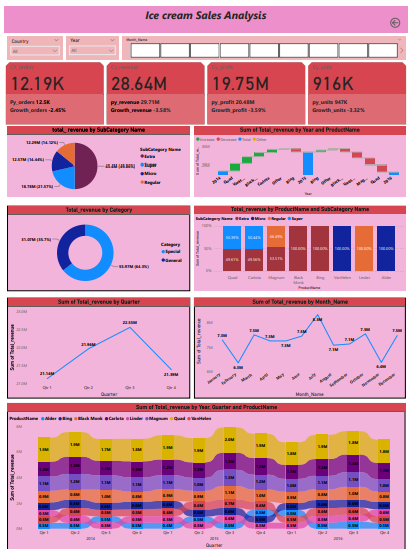

The page's visual inventory and layout, read from the dashboard file:
{"tool":"powerbi","page":{"name":"Page 2","canvas":[1400,1400],"ordinal":1},"visuals":[{"type":"textbox","box":[10,30,1270,40],"z":0},{"type":"slicer","fields":{"Values":["Geography.Country"]},"box":[16.7,91.7,158.3,70],"z":1000},{"type":"slicer","fields":{"Values":["Date_Master.Date.Variation.Date Hierarchy.Year"]},"box":[186.2,91.2,157.5,70],"z":2000},{"type":"slicer","fields":{"Values":["Date_Master.Month_Name"]},"box":[366.7,91.7,836.7,70],"z":3000},{"type":"cardVisual","fields":{"Data":["Calculations.CY_orders","Calculations.Cy_revenue","Calculations.Cy_profit","Calculations.Cy_units"]},"box":[0,183.3,1223.3,161.7],"z":8000},{"type":"pieChart","title":"total_ revenue by SubCategory Name","fields":{"Y":["Sum(Final_sales.Total_revenue)"],"Category":["Sub categories.SubCategory Name"]},"box":[10,360,546.7,210],"z":9000},{"type":"donutChart","title":"Total_revenue by Category","fields":{"Y":["Sum(Final_sales.Total_revenue)"],"Category":["dCategory.Category"]},"box":[10,596.7,546.7,255],"z":10000},{"type":"waterfallChart","fields":{"Y":["Sum(Final_sales.Total_revenue)"],"Category":["Date_Master.Date.Variation.Date Hierarchy.Year"],"Breakdown":["Product.ProductName"]},"box":[570,360,633.3,210],"z":11000},{"type":"hundredPercentStackedColumnChart","title":" Total_revenue by ProductName and SubCategory Name","fields":{"Category":["Product.ProductName"],"Y":["Sum(Final_sales.Total_revenue)"],"Series":["Sub categories.SubCategory Name"]},"box":[570,596.7,633.3,255],"z":12000},{"type":"lineChart","fields":{"Category":["Date_Master.Date.Variation.Date Hierarchy.Quarter"],"Y":["Sum(Final_sales.Total_revenue)"]},"box":[10,873.3,546.7,301.7],"z":13000},{"type":"lineChart","fields":{"Category":["Date_Master.Month_Name","Date_Master.Date.Variation.Date Hierarchy.Quarter"],"Y":["Sum(Final_sales.Total_revenue)"]},"box":[570,873.3,633.3,301.7],"z":14000}]}

Visuals, with their boxes on the page's 1400x1400 design canvas (x1, y1, x2, y2). These are canvas units, not pixel positions in the 415x549 screenshot, which may show the page scaled, cropped or inside an application window:
textbox: select_region(10, 30, 1280, 70)
slicer - Geography.Country: select_region(17, 92, 175, 162)
slicer - Date_Master.Date.Variation.Date Hierarchy.Year: select_region(186, 91, 344, 161)
slicer - Date_Master.Month_Name: select_region(367, 92, 1203, 162)
cardVisual - Calculations.CY_orders x Calculations.Cy_revenue: select_region(0, 183, 1223, 345)
"total_ revenue by SubCategory Name" pieChart: select_region(10, 360, 557, 570)
"Total_revenue by Category" donutChart: select_region(10, 597, 557, 852)
waterfallChart - Sum(Final_sales.Total_revenue) x Date_Master.Date.Variation.Date Hierarchy.Year: select_region(570, 360, 1203, 570)
" Total_revenue by ProductName and SubCategory Name" hundredPercentStackedColumnChart: select_region(570, 597, 1203, 852)
lineChart - Date_Master.Date.Variation.Date Hierarchy.Quarter x Sum(Final_sales.Total_revenue): select_region(10, 873, 557, 1175)
lineChart - Date_Master.Month_Name x Date_Master.Date.Variation.Date Hierarchy.Quarter: select_region(570, 873, 1203, 1175)
